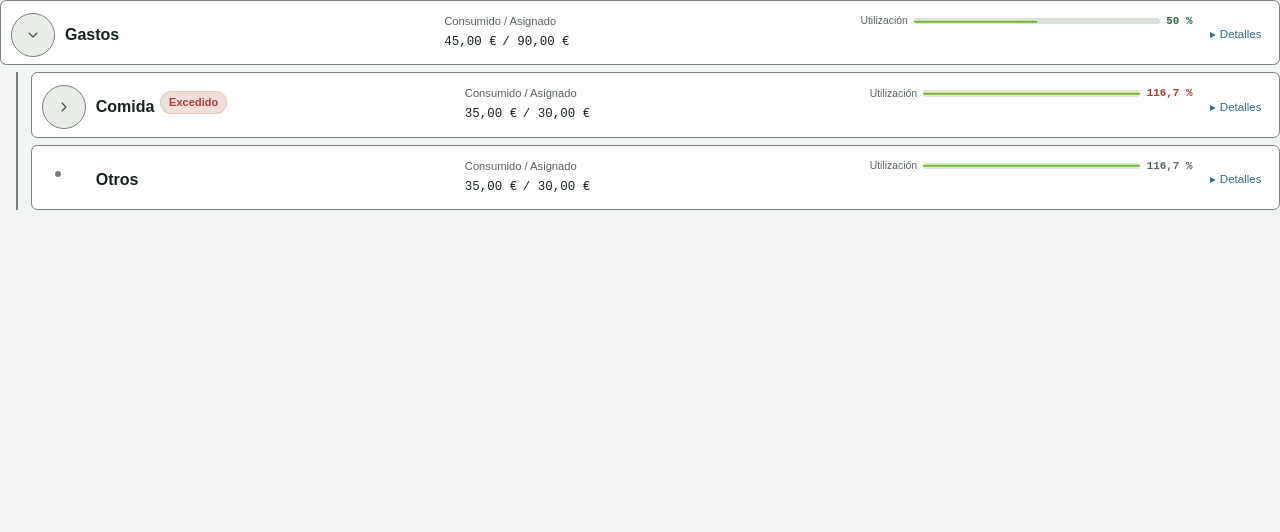
it: BudgetAllocationTable › keeps every financial measure and source badge at every depth
The width and height of the screenshot is (1280, 532).
Click the button named "Desplegar Gastos › Comida". click: (64, 107)
box: [42,85,86,129]
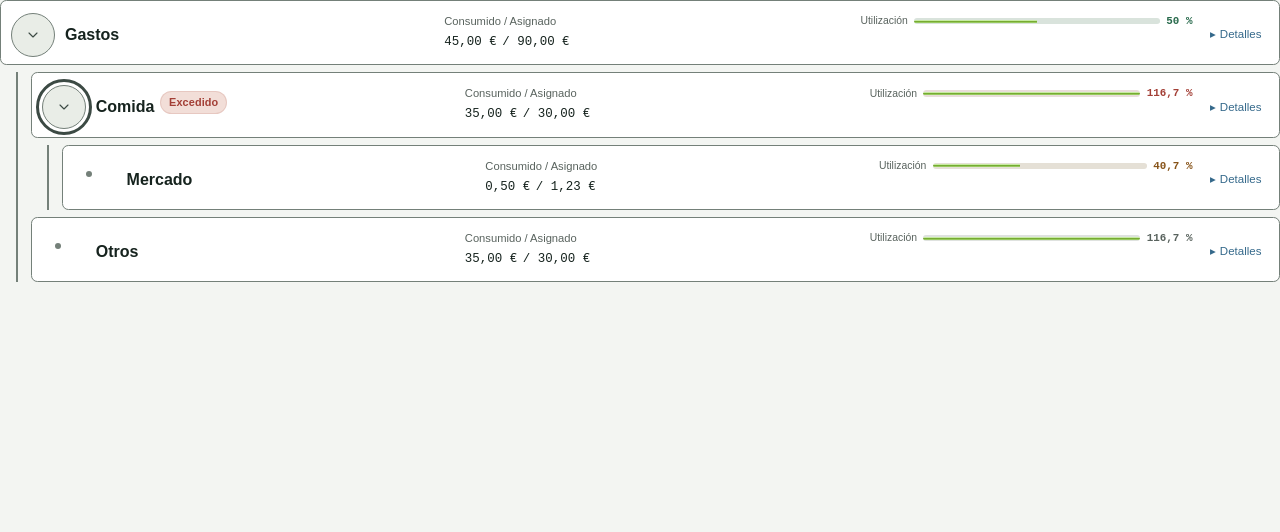
Click the button with aria-label "Detalles de Gastos". click: (1236, 35)
box: [1203,13,1269,57]
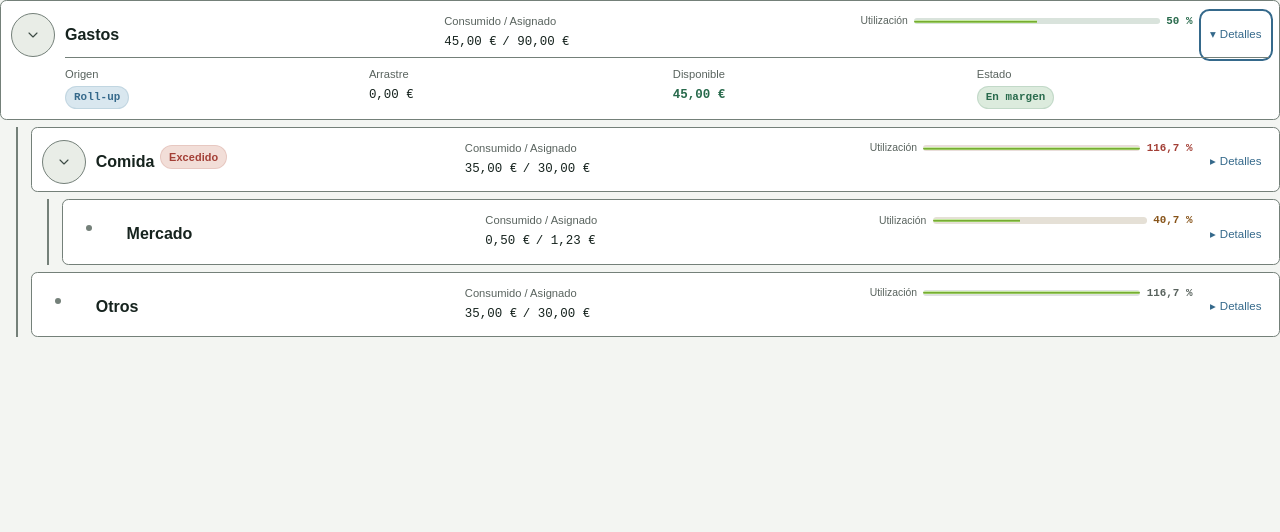
Click the button with aria-label "Detalles de Gastos › Comida". click: (1236, 162)
box: [1203,140,1269,184]
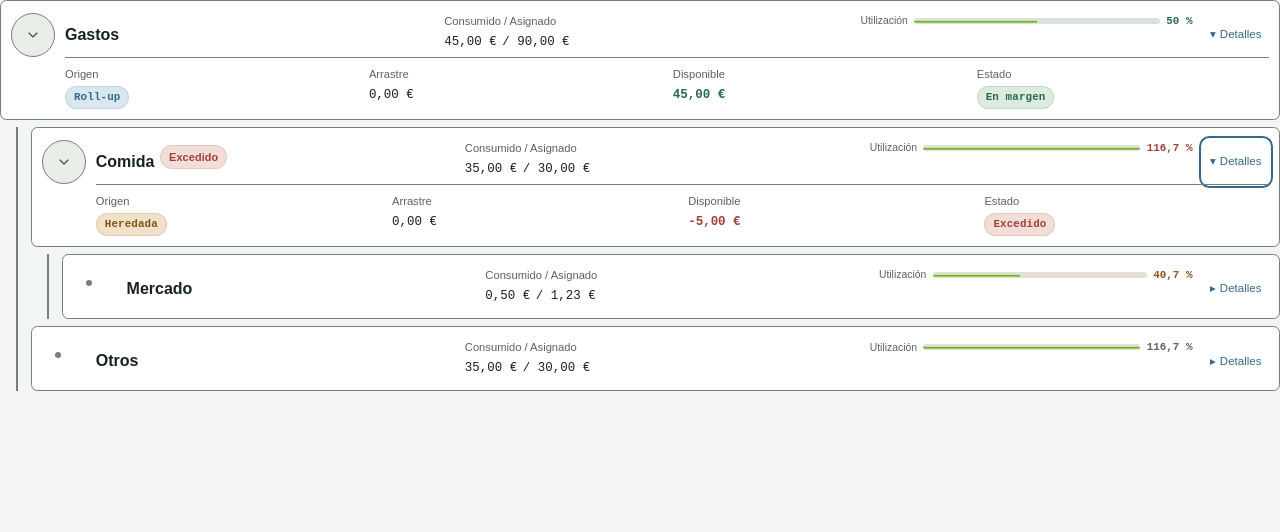
Click the button with aria-label "Detalles de Gastos › Comida › Mercado". click: (1236, 289)
box: [1203,267,1269,311]
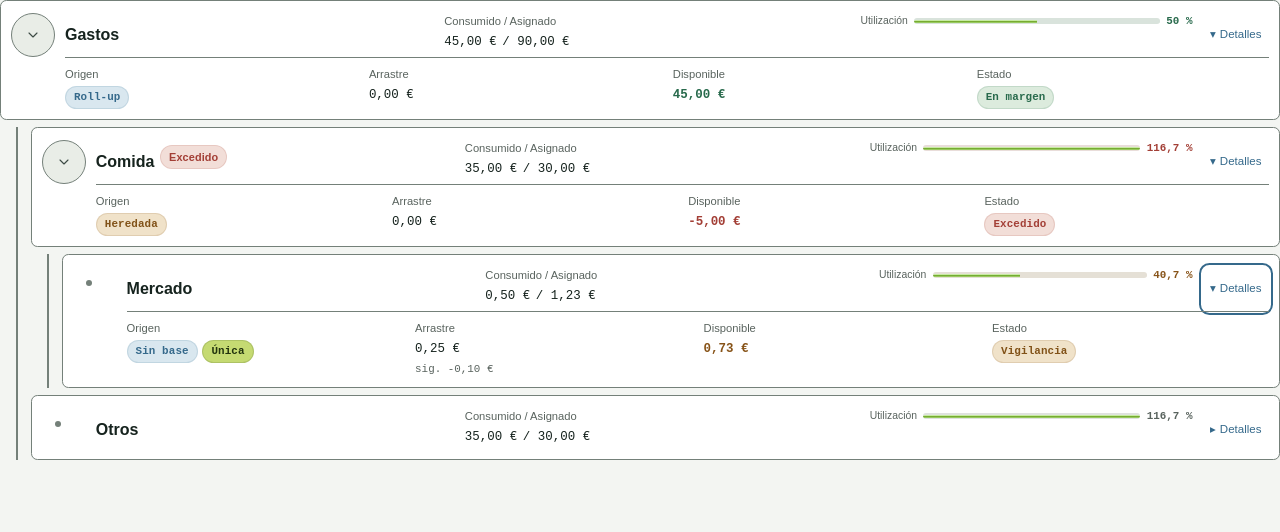
Click the button with aria-label "Detalles de Gastos › Otros". click: (1236, 430)
box: [1203,408,1269,452]
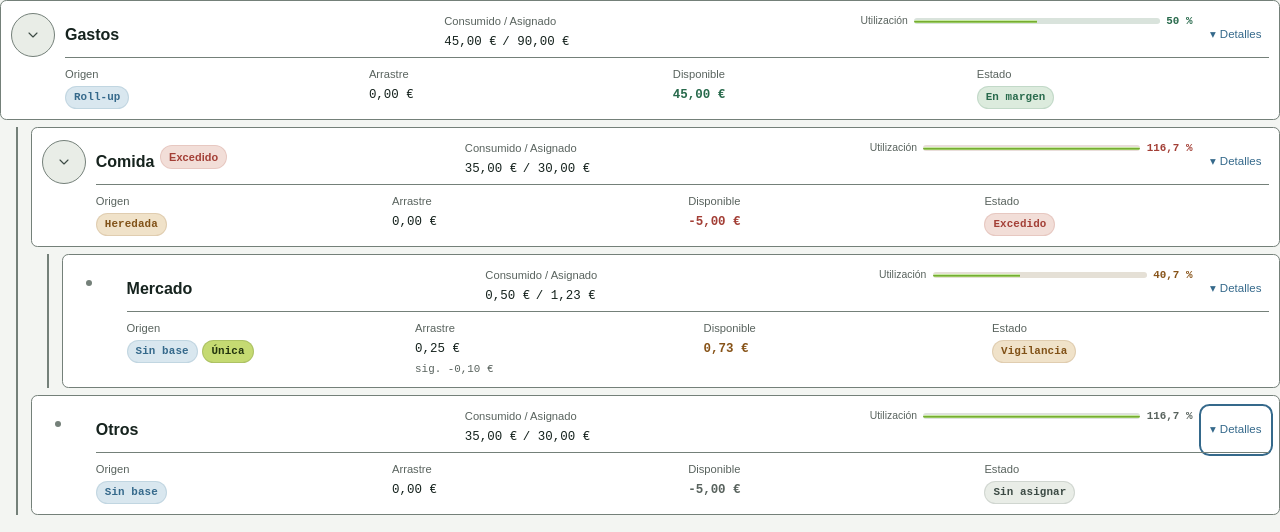
Result: the text "Roll-up" is shown at [65,86,130,109]
Result: the text "Heredada" is shown at [96,213,167,236]
Result: the text "Sin base" is shown 2 times at [127,340,198,363]; [96,481,167,504]
